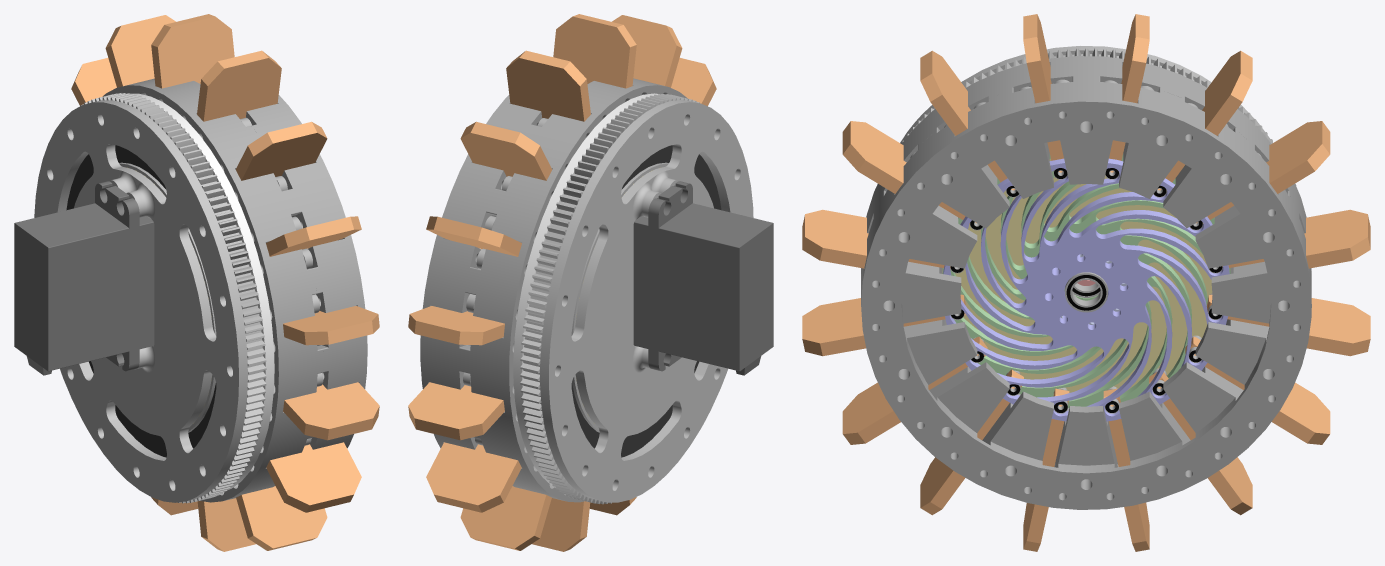
3 views of the same model, side by side, from view 1: azimuth 30°, elevation 25°; view 2: azimuth 150°, elevation 25°; view 3: azimuth 270°, elevation 25° (orthographic). The views are drawn at different scales.
Parts seen in each view (by area): view 1: Wheel_Servo_Mount_302-7, 50kg Brushless Servo.step-1, Wheel_Exterior_307-1, Wheel_Exterior_307-3, Wheel_Gear_301-3, Grouser_Assembly_004-11/Grouser_310_V3_PAHTCF-1, Grouser_Assembly_004-1/Grouser_310_V3_PAHTCF-1, Grouser_Assembly_004-16/Grouser_310_V3_PAHTCF-1, Wheel_Servo_Mount_302-4, Grouser_Assembly_004-12/Grouser_310_V3_PAHTCF-1, Grouser_Assembly_004-10/Grouser_310_V3_PAHTCF-1, Grouser_Assembly_004-15/Grouser_310_V3_PAHTCF-1 (+6 smaller); view 2: Wheel_Servo_Mount_302-7, 50kg Brushless Servo.step-1, Wheel_Exterior_307-1, Wheel_Exterior_307-3, Wheel_Gear_301-3, Grouser_Assembly_004-6/Grouser_310_V3_PAHTCF-1, Grouser_Assembly_004-16/Grouser_310_V3_PAHTCF-1, Grouser_Assembly_004-1/Grouser_310_V3_PAHTCF-1, Grouser_Assembly_004-5/Grouser_310_V3_PAHTCF-1, Wheel_Servo_Mount_302-4, Grouser_Assembly_004-7/Grouser_310_V3_PAHTCF-1, Grouser_Assembly_004-2/Grouser_310_V3_PAHTCF-1 (+6 smaller); view 3: Wheel_Exterior_307-3, Wheel_Hub_CF_309-2, Wheel_Ring_Gear_304-2, Wheel_Hub_CF_309-1, Wheel_Exterior_307-1, Grouser_Assembly_004-13/Grouser_310_V3_PAHTCF-1, Grouser_Assembly_004-4/Grouser_310_V3_PAHTCF-1, Grouser_Assembly_004-5/Grouser_310_V3_PAHTCF-1, Grouser_Assembly_004-3/Grouser_310_V3_PAHTCF-1, Grouser_Assembly_004-14/Grouser_310_V3_PAHTCF-1, Grouser_Assembly_004-12/Grouser_310_V3_PAHTCF-1, Grouser_Assembly_004-2/Grouser_310_V3_PAHTCF-1 (+12 smaller).
Part boxes in pixels (box(x1,y1,x2,y2)): Wheel_Servo_Mount_302-7: box(34, 100, 247, 502); 50kg Brushless Servo.step-1: box(14, 181, 154, 375); Wheel_Exterior_307-1: box(102, 78, 323, 502); Wheel_Exterior_307-3: box(246, 95, 367, 449); Wheel_Gear_301-3: box(77, 93, 266, 503); Grouser_Assembly_004-11/Grouser_310_V3_PAHTCF-1: box(266, 442, 361, 512); Grouser_Assembly_004-1/Grouser_310_V3_PAHTCF-1: box(151, 14, 234, 88); Grouser_Assembly_004-16/Grouser_310_V3_PAHTCF-1: box(197, 50, 281, 121); Wheel_Servo_Mount_302-4: box(130, 93, 274, 490); Grouser_Assembly_004-12/Grouser_310_V3_PAHTCF-1: box(283, 382, 379, 440); Grouser_Assembly_004-10/Grouser_310_V3_PAHTCF-1: box(236, 486, 327, 550); Grouser_Assembly_004-15/Grouser_310_V3_PAHTCF-1: box(235, 121, 327, 180); Wheel_Servo_Mount_302-7: box(540, 100, 753, 502); 50kg Brushless Servo.step-1: box(633, 181, 773, 375); Wheel_Exterior_307-1: box(464, 78, 687, 502); Wheel_Exterior_307-3: box(420, 95, 541, 449); Wheel_Gear_301-3: box(520, 94, 699, 504); Grouser_Assembly_004-6/Grouser_310_V3_PAHTCF-1: box(426, 442, 521, 512); Grouser_Assembly_004-16/Grouser_310_V3_PAHTCF-1: box(553, 14, 636, 88); Grouser_Assembly_004-1/Grouser_310_V3_PAHTCF-1: box(506, 50, 590, 121); Grouser_Assembly_004-5/Grouser_310_V3_PAHTCF-1: box(408, 382, 504, 440); Wheel_Servo_Mount_302-4: box(513, 93, 661, 487); Grouser_Assembly_004-7/Grouser_310_V3_PAHTCF-1: box(460, 486, 551, 550); Grouser_Assembly_004-2/Grouser_310_V3_PAHTCF-1: box(460, 121, 552, 180); Wheel_Exterior_307-3: box(861, 78, 1311, 509); Wheel_Hub_CF_309-2: box(943, 158, 1229, 421); Wheel_Ring_Gear_304-2: box(942, 158, 1230, 392); Wheel_Hub_CF_309-1: box(942, 154, 1230, 407); Wheel_Exterior_307-1: box(861, 56, 1311, 464); Grouser_Assembly_004-13/Grouser_310_V3_PAHTCF-1: box(802, 209, 963, 270); Grouser_Assembly_004-4/Grouser_310_V3_PAHTCF-1: box(1222, 209, 1370, 268); Grouser_Assembly_004-5/Grouser_310_V3_PAHTCF-1: box(1206, 294, 1370, 356); Grouser_Assembly_004-3/Grouser_310_V3_PAHTCF-1: box(1196, 121, 1330, 223); Grouser_Assembly_004-14/Grouser_310_V3_PAHTCF-1: box(842, 121, 976, 224); Grouser_Assembly_004-12/Grouser_310_V3_PAHTCF-1: box(802, 294, 965, 356); Grouser_Assembly_004-2/Grouser_310_V3_PAHTCF-1: box(1158, 50, 1252, 190).
Bounding box in the file's own units: 0.0776 × 0.1576 × 0.1576.
